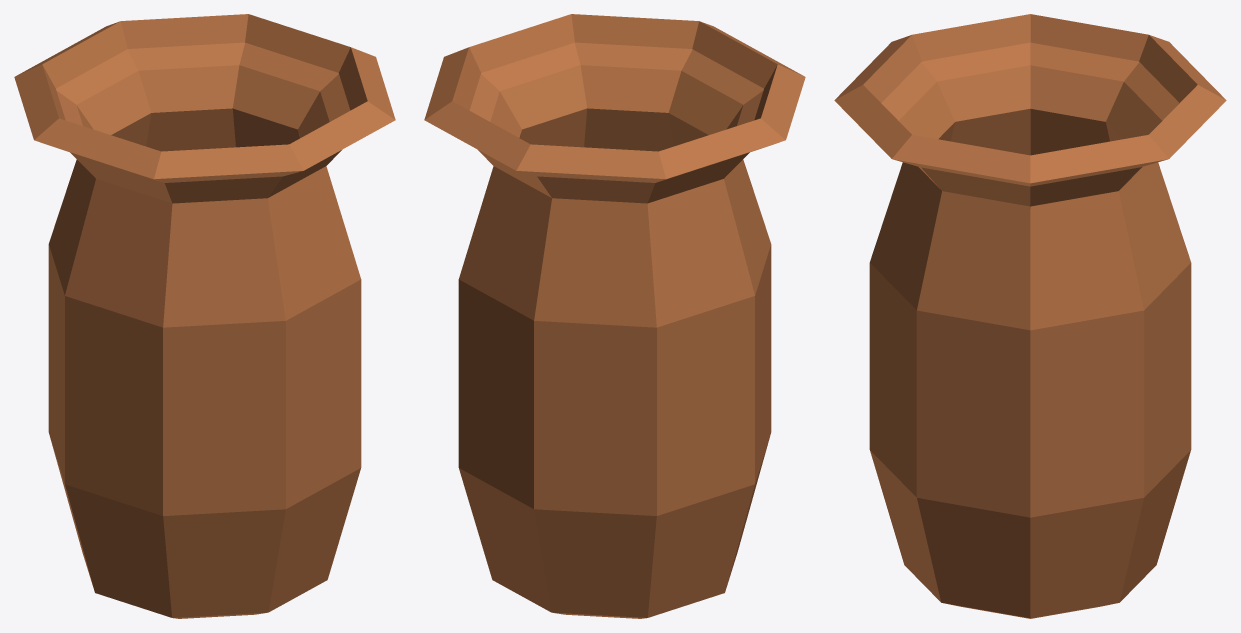
The model's file is roman_pot_2.fbx.
3 views of the same model, side by side, from view 1: azimuth 30°, elevation 25°; view 2: azimuth 150°, elevation 25°; view 3: azimuth 270°, elevation 25° (orthographic).
Parts seen in each view (by area): view 1: Cylinder.003; view 2: Cylinder.003; view 3: Cylinder.003.
Part boxes in pixels (bbox=[...]): Cylinder.003: bbox=[14, 14, 395, 618]; Cylinder.003: bbox=[424, 14, 805, 618]; Cylinder.003: bbox=[834, 14, 1226, 618].
Bounding box in the file's own units: 0.6264 × 0.867 × 0.6264.
Materials: 1 (1 with a texture image).
